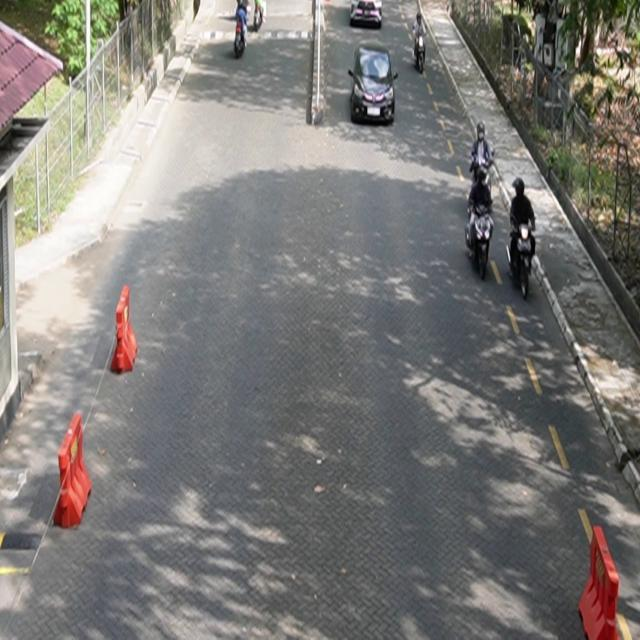car: (349, 40, 399, 126), (350, 1, 383, 29)
